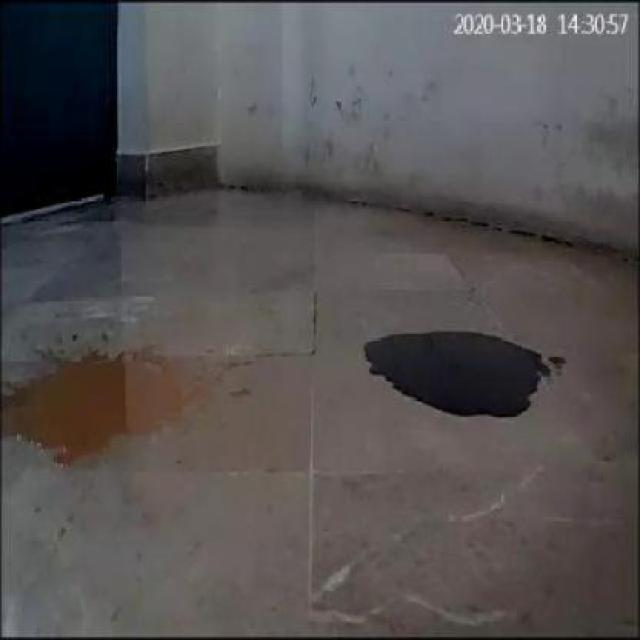spillage: (5, 356, 188, 466), (363, 332, 549, 417)
